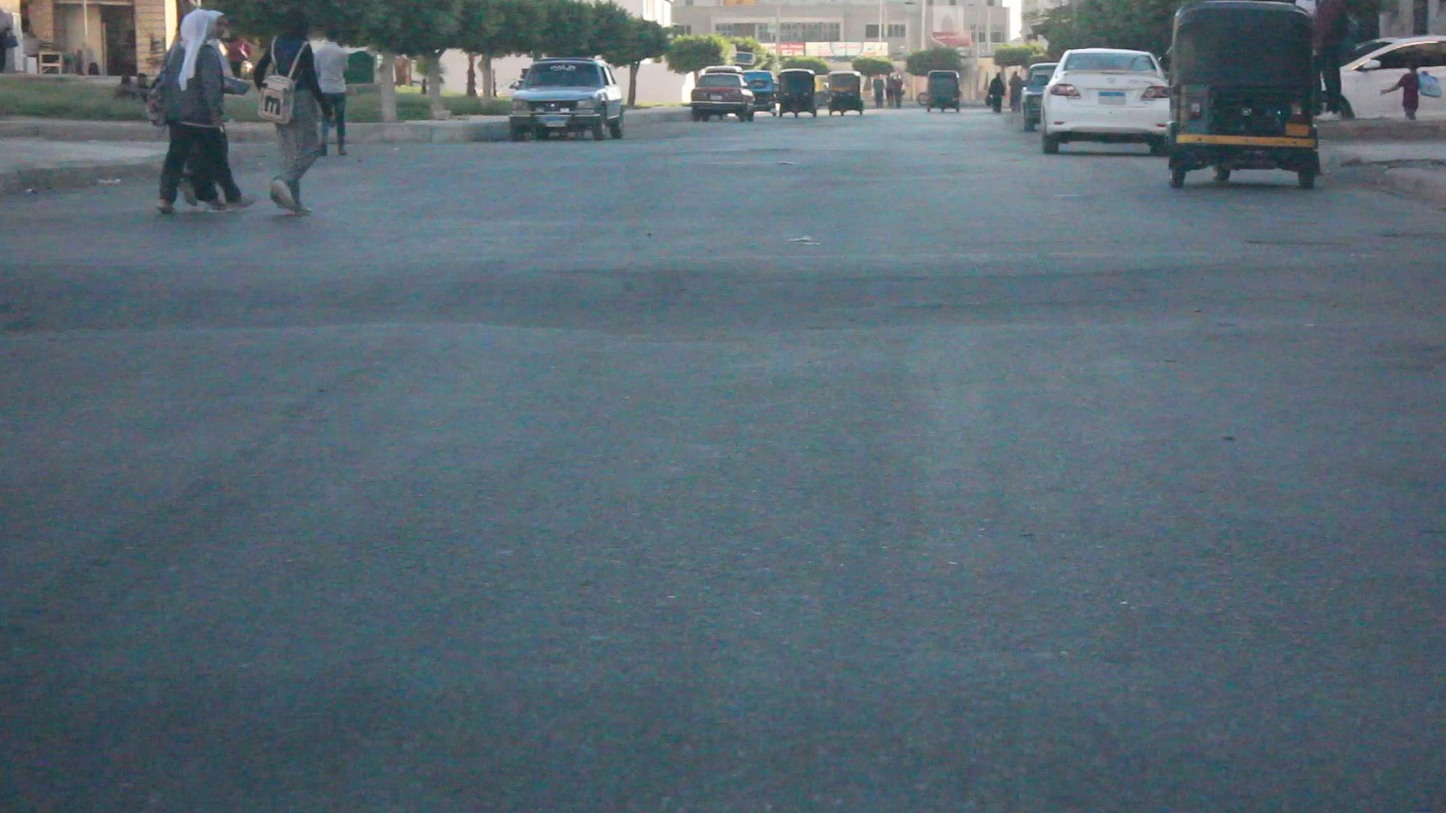Bump: (0, 233, 1446, 326)
